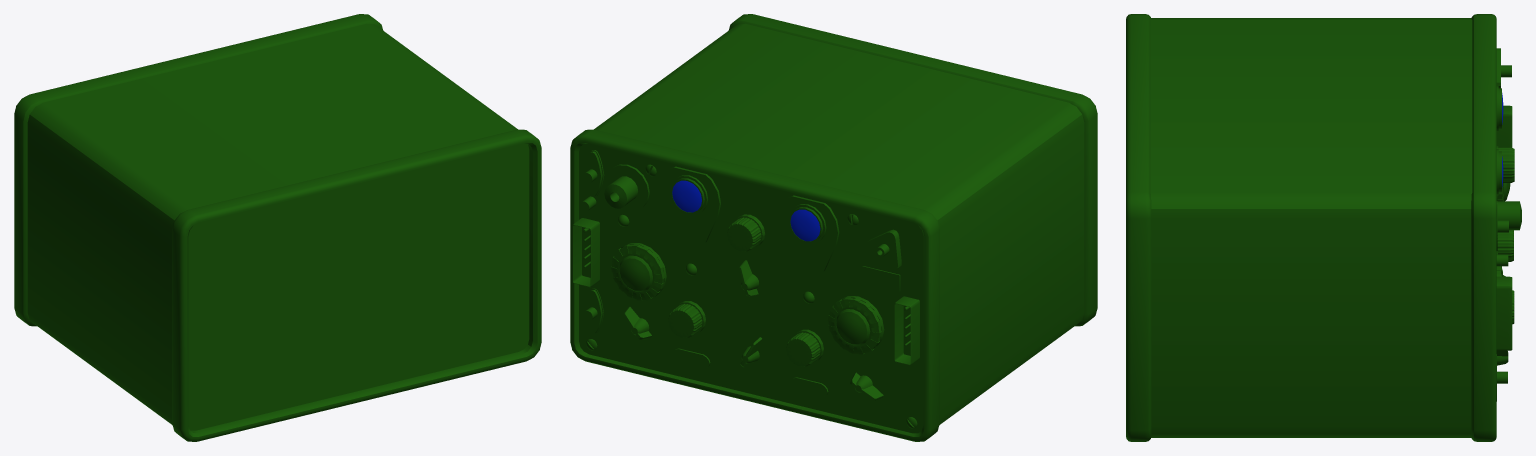
Rendered from radio.fbx.
3 views of the same model, side by side, from view 1: azimuth 30°, elevation 25°; view 2: azimuth 150°, elevation 25°; view 3: azimuth 270°, elevation 25° (orthographic). The views are drawn at different scales.
Visible parts, largest first — view 1: Cube; view 2: Cube; view 3: Cube.
Boxes of the visible parts, left/top/right/bottom form: Cube: left=14, top=14, right=541, bottom=441; Cube: left=570, top=14, right=1097, bottom=441; Cube: left=1126, top=14, right=1521, bottom=441.
Size of the model in its own units: 0.4736 by 0.2832 by 0.4099.
